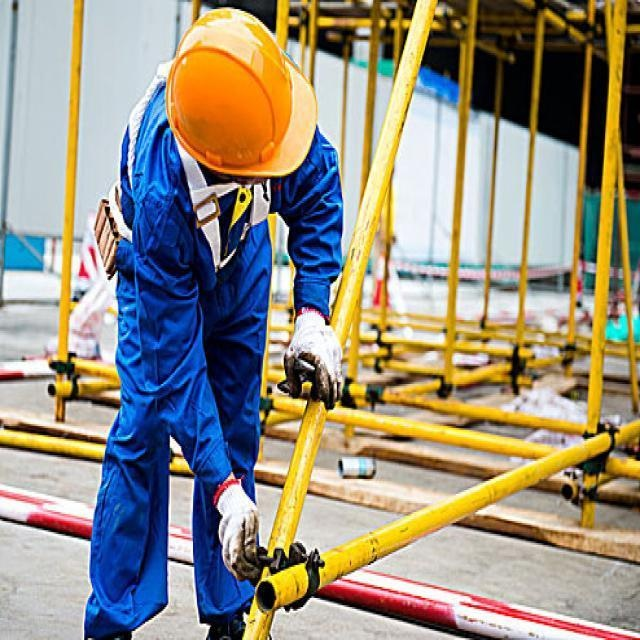Arnes_seguridad: (101, 40, 275, 271)
